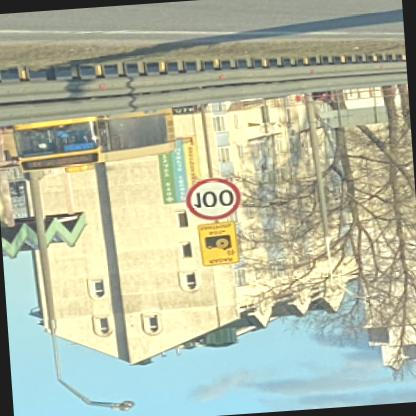speedlimit: (183, 178, 240, 223)
